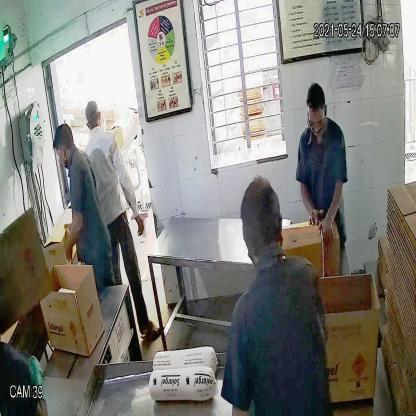goggles: (304, 108, 330, 132)
